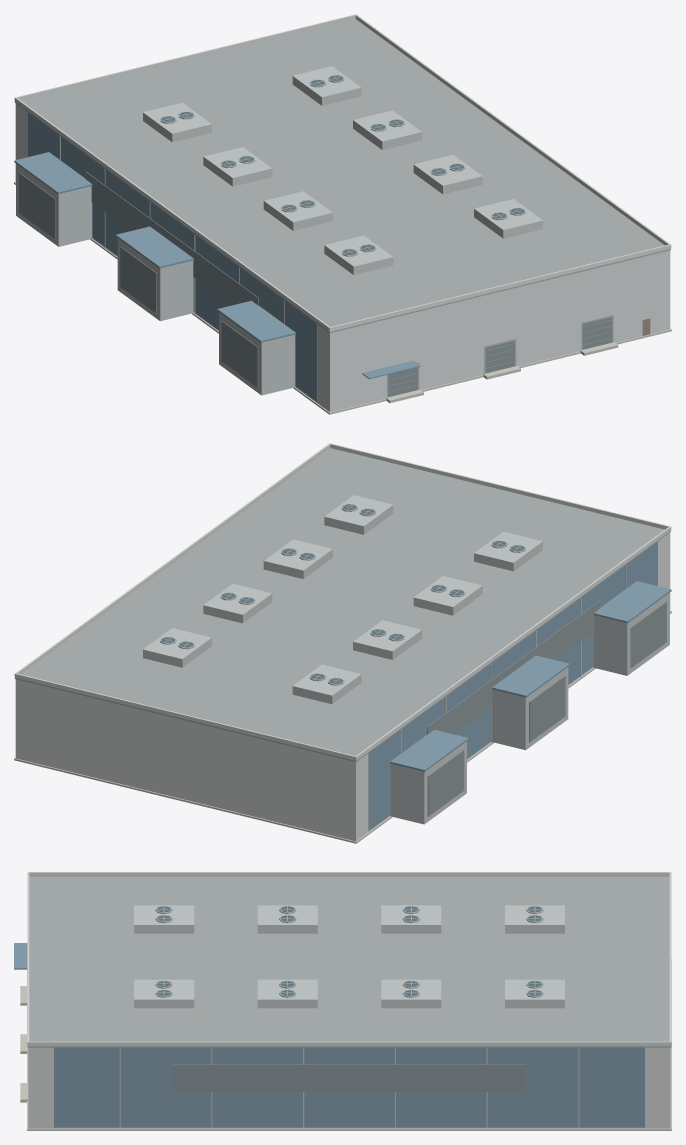
The model's file is dc-cooling-hall.glb.
3 renders of one model, top to bottom at view 1: azimuth 30°, elevation 25°; view 2: azimuth 150°, elevation 25°; view 3: azimuth 270°, elevation 25°, orthographic. The views are drawn at different scales.
Parts seen in each view (by area): view 1: dc-cooling-hall; view 2: dc-cooling-hall; view 3: dc-cooling-hall.
Part boxes in pixels (x1,y1,x2,y2): dc-cooling-hall: [14, 14, 671, 414]; dc-cooling-hall: [14, 443, 671, 843]; dc-cooling-hall: [14, 872, 671, 1130].
Size of the model in its own units: 66.4 by 15.6 by 98.35.
